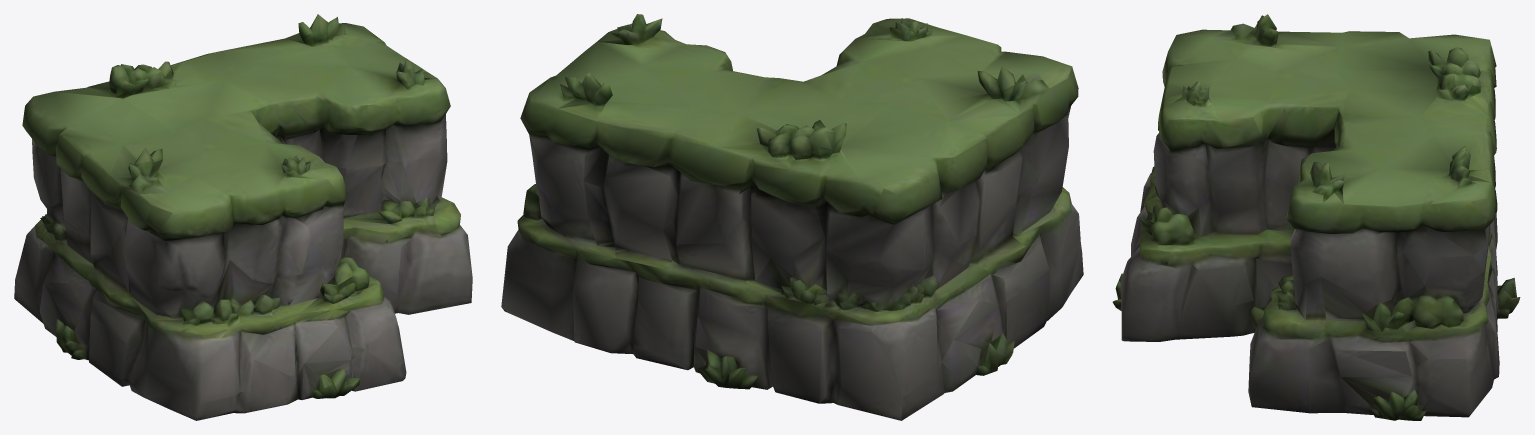
The model's file is cliff_corner.glb.
3 renders of one model, left to right at view 1: azimuth 30°, elevation 25°; view 2: azimuth 150°, elevation 25°; view 3: azimuth 270°, elevation 25°, orthographic. The views are drawn at different scales.
Visible parts, largest first — view 1: tripo_node_d20e1403-4436-4ad6-b22e-395b43ddab78; view 2: tripo_node_d20e1403-4436-4ad6-b22e-395b43ddab78; view 3: tripo_node_d20e1403-4436-4ad6-b22e-395b43ddab78.
Boxes of the visible parts, <box> form: tripo_node_d20e1403-4436-4ad6-b22e-395b43ddab78: <box>14,14,472,420</box>; tripo_node_d20e1403-4436-4ad6-b22e-395b43ddab78: <box>501,14,1083,420</box>; tripo_node_d20e1403-4436-4ad6-b22e-395b43ddab78: <box>1112,14,1520,420</box>.
Size of the model in its own units: 0.9814 by 0.5287 by 0.8369.
1 material, 1 textured.
